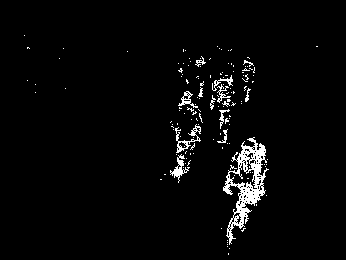person: (223, 136, 264, 250), (172, 92, 203, 181), (211, 69, 237, 143)
